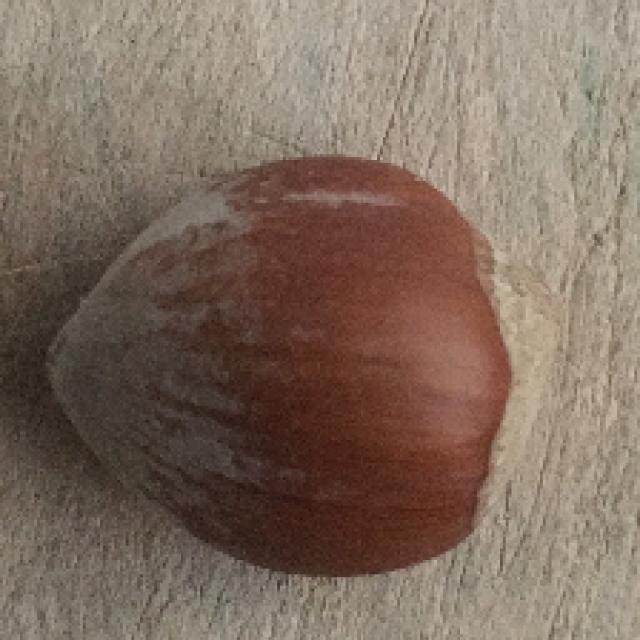qualityHazelnut: (38, 159, 556, 582)
